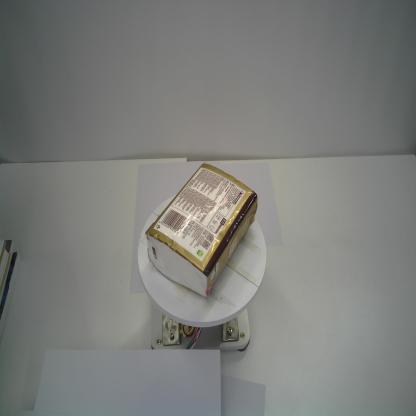Tissue: (144, 162, 258, 300)
